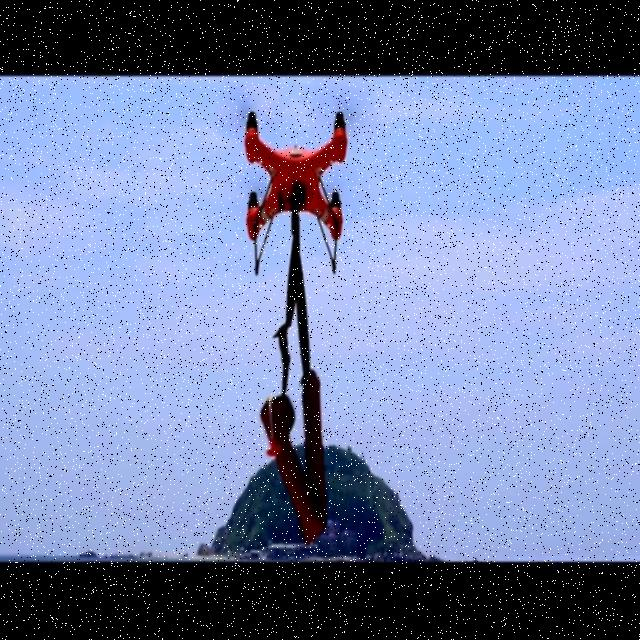UAV: (245, 111, 348, 277)
